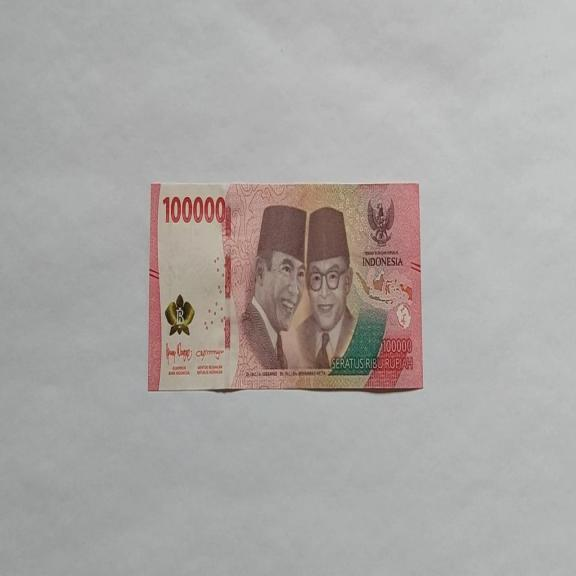Kertas: (147, 180, 424, 394), (162, 192, 226, 225)
